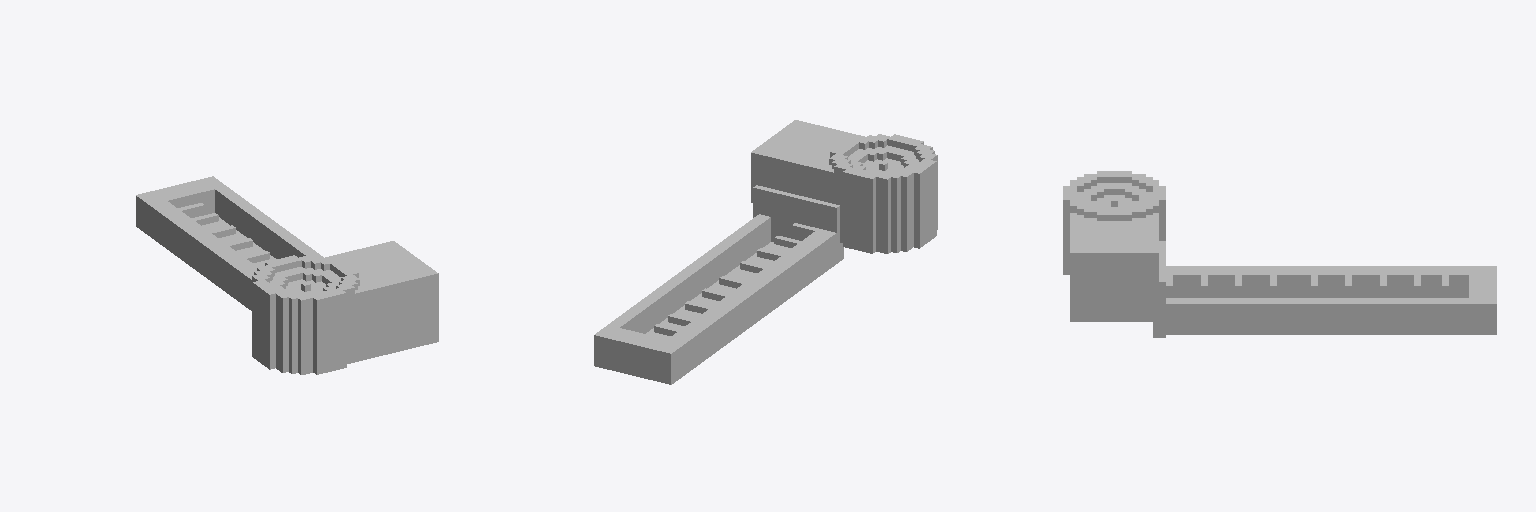
The model's file is gage01.obj.
The picture shows the model from 3 angles: view 1: azimuth 30°, elevation 25°; view 2: azimuth 150°, elevation 25°; view 3: azimuth 270°, elevation 25°; orthographic projection.
Size of the model in its own units: 26 by 15 by 63.